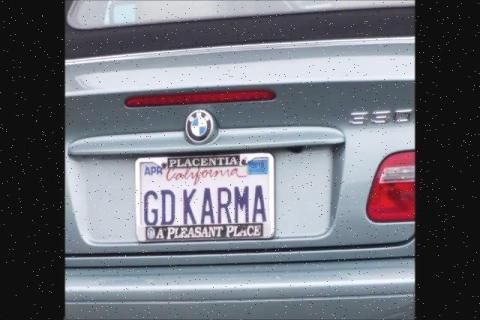LicensePlate: (134, 146, 282, 250)
